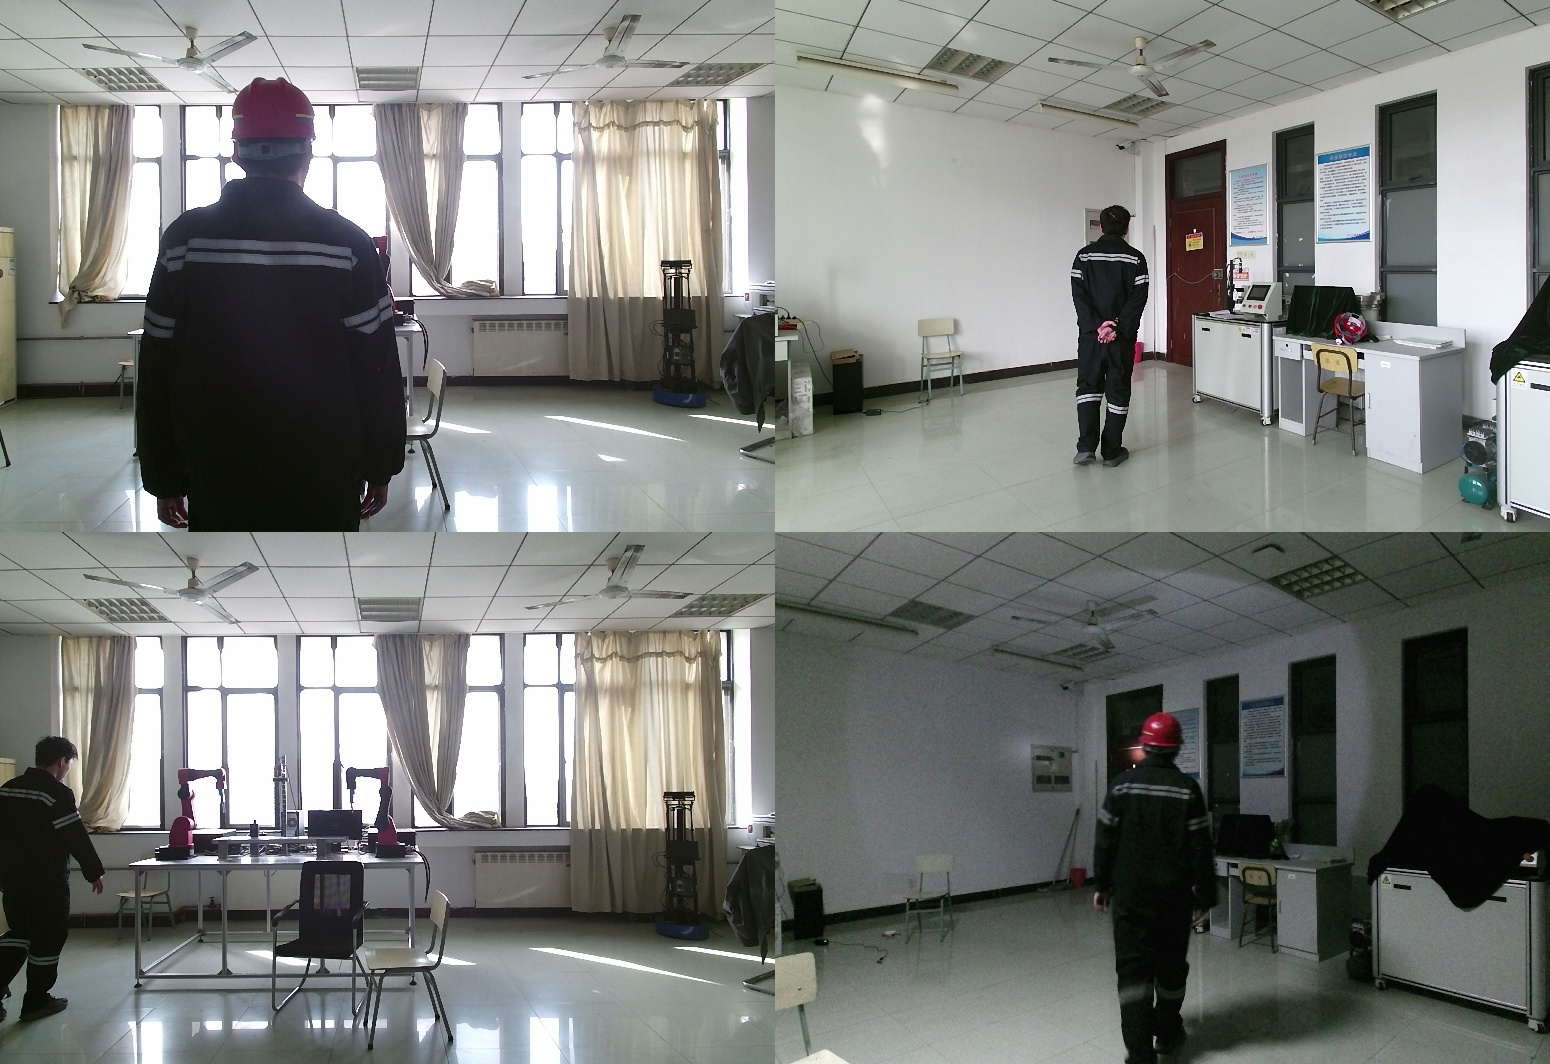person: (136, 79, 409, 532), (1088, 710, 1227, 1064), (1, 736, 106, 1019), (1065, 205, 1155, 473)
